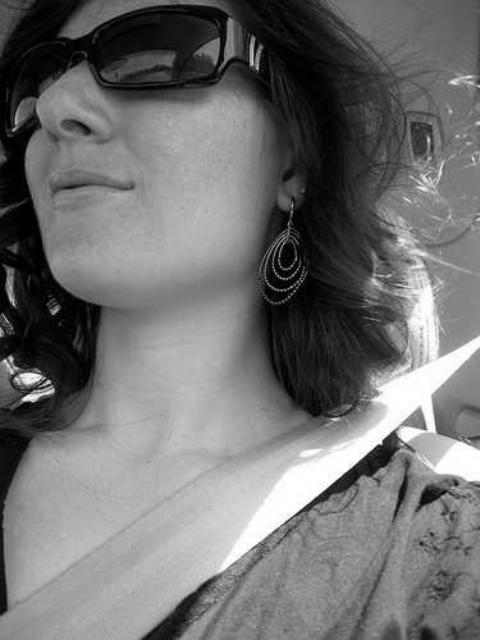Seatbelt: (0, 328, 480, 640)
